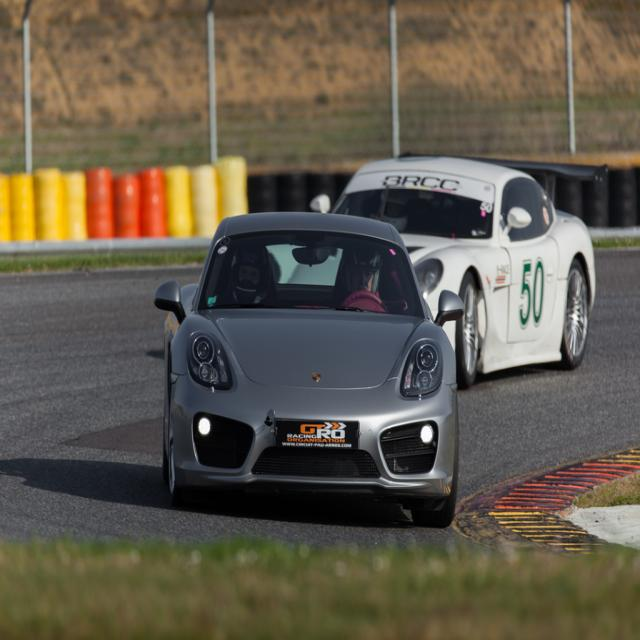car: (154, 208, 459, 522)
